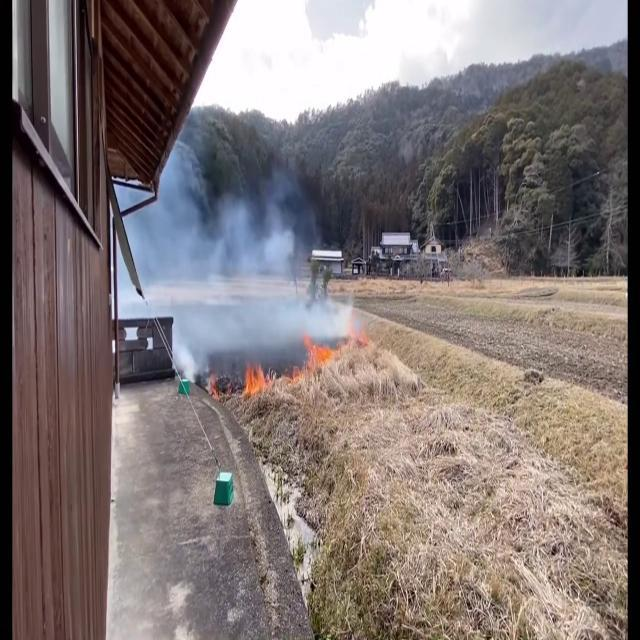Fire: (300, 324, 344, 377), (241, 350, 271, 402)
Smoke: (152, 141, 333, 384)
